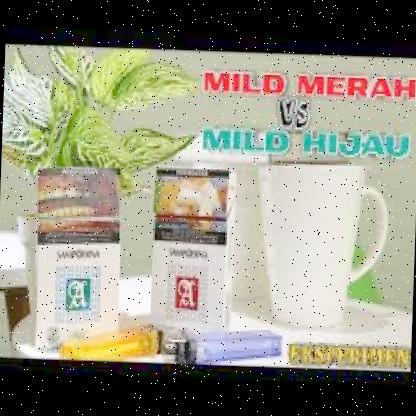bungkus rokok: (29, 153, 126, 356), (142, 156, 244, 338)
